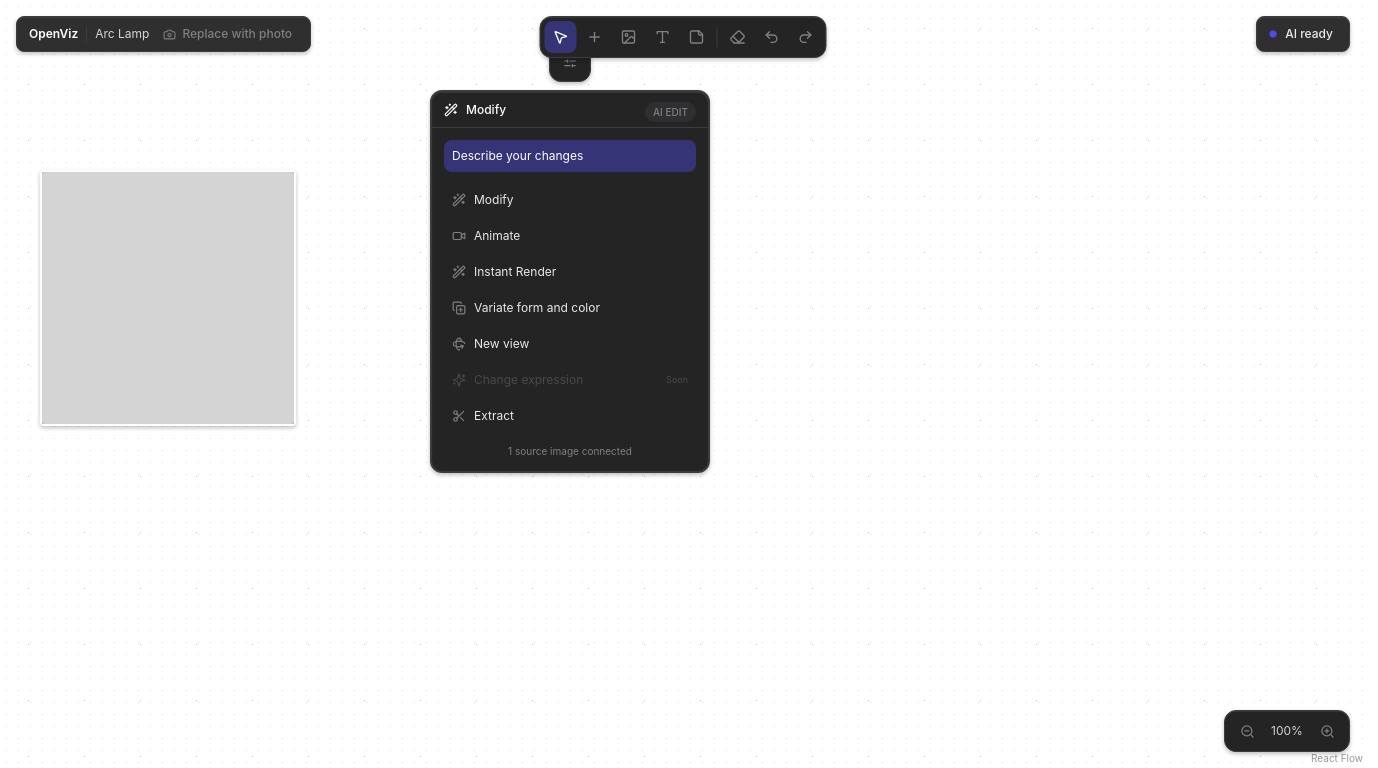
Scenario: GenerationNodeMockup › runs Extract against the connected reference with type and sampling controls
Click the button "Extract" at [570, 416], box [444,400,696,432]
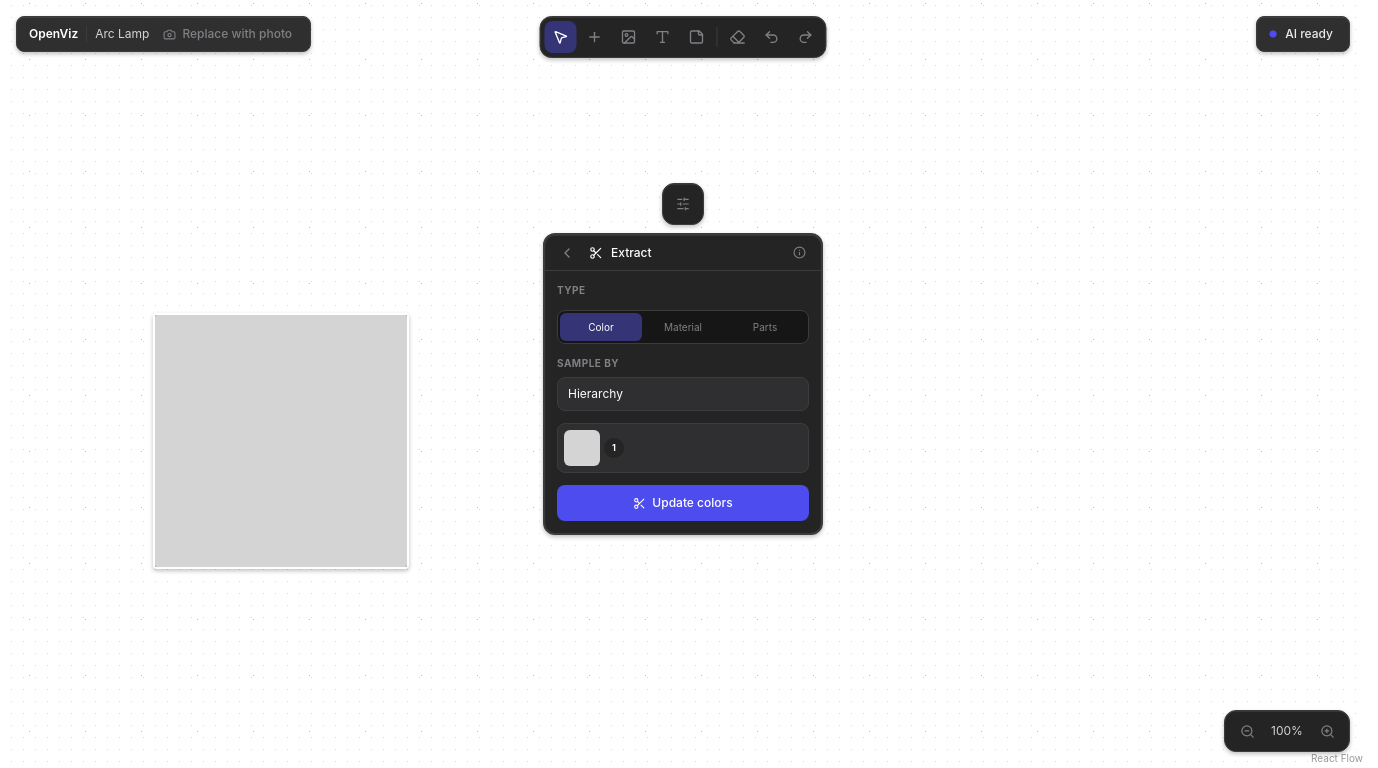
Expected: the heading "Extract" is shown, [611,244,652,260]
Now the button "Update colors" is enabled, box [557,485,809,521]
Click the button "Material" at [683, 327], box [642,313,724,341]
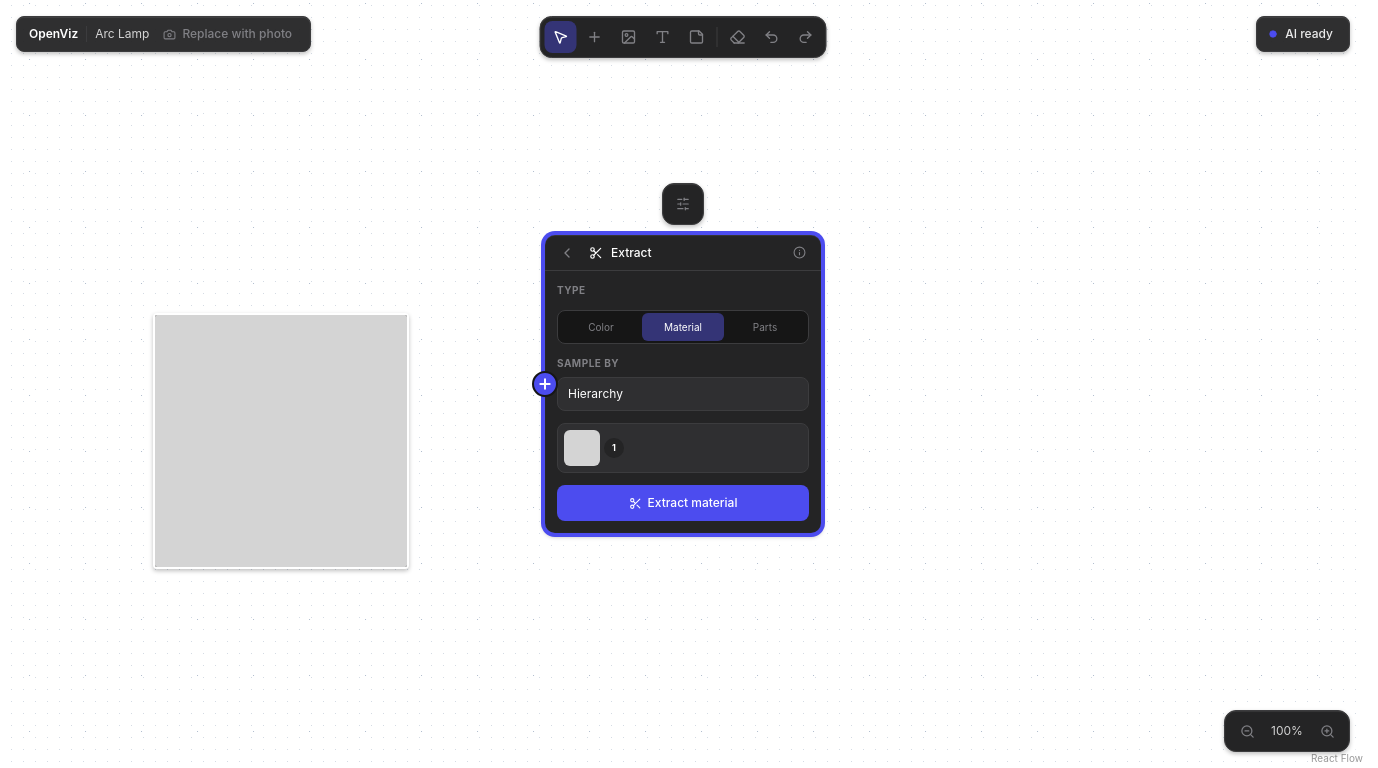
Now the button "Extract material" is enabled, box [557,485,809,521]
Select "Region" in the dropdown labelled "Sample by" at [683, 394], box [557,377,809,411]
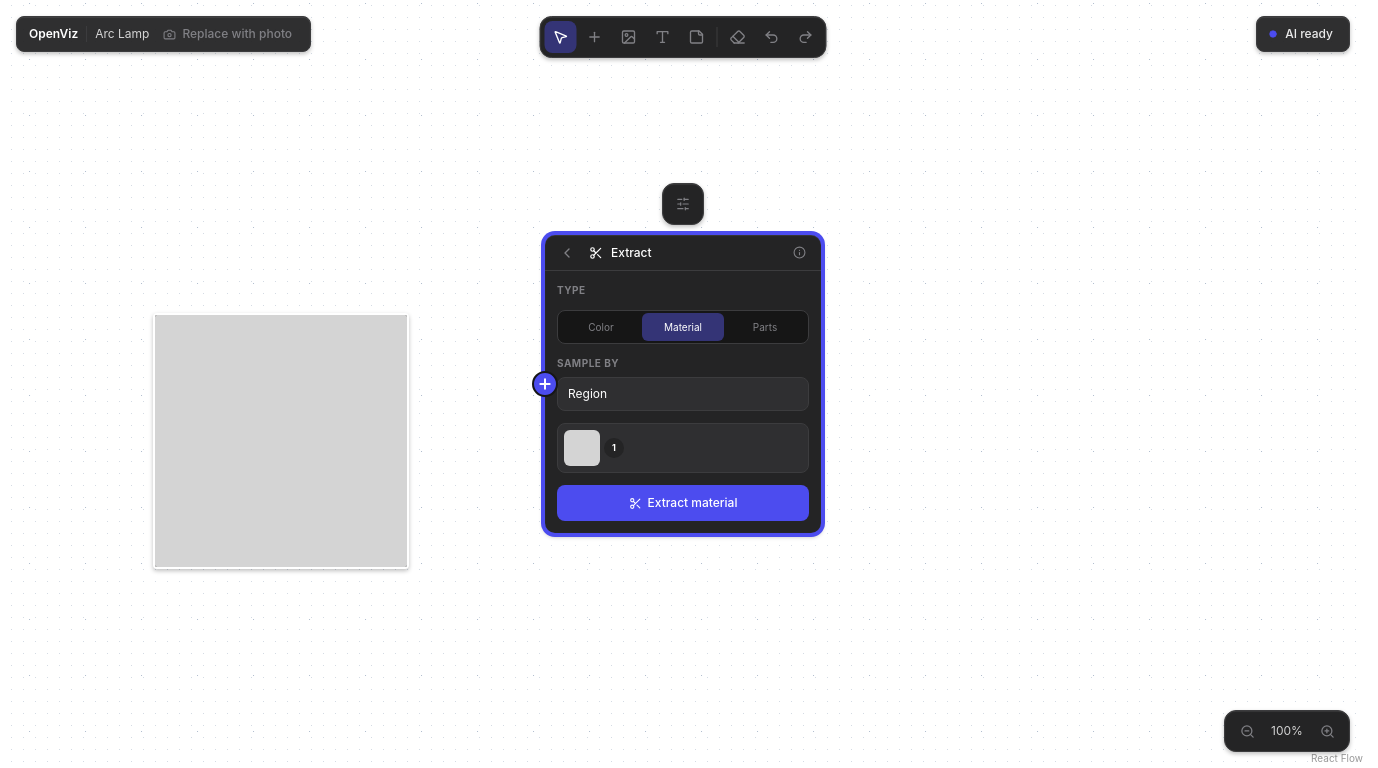
Click the button "Extract material" at [683, 503], box [557,485,809,521]
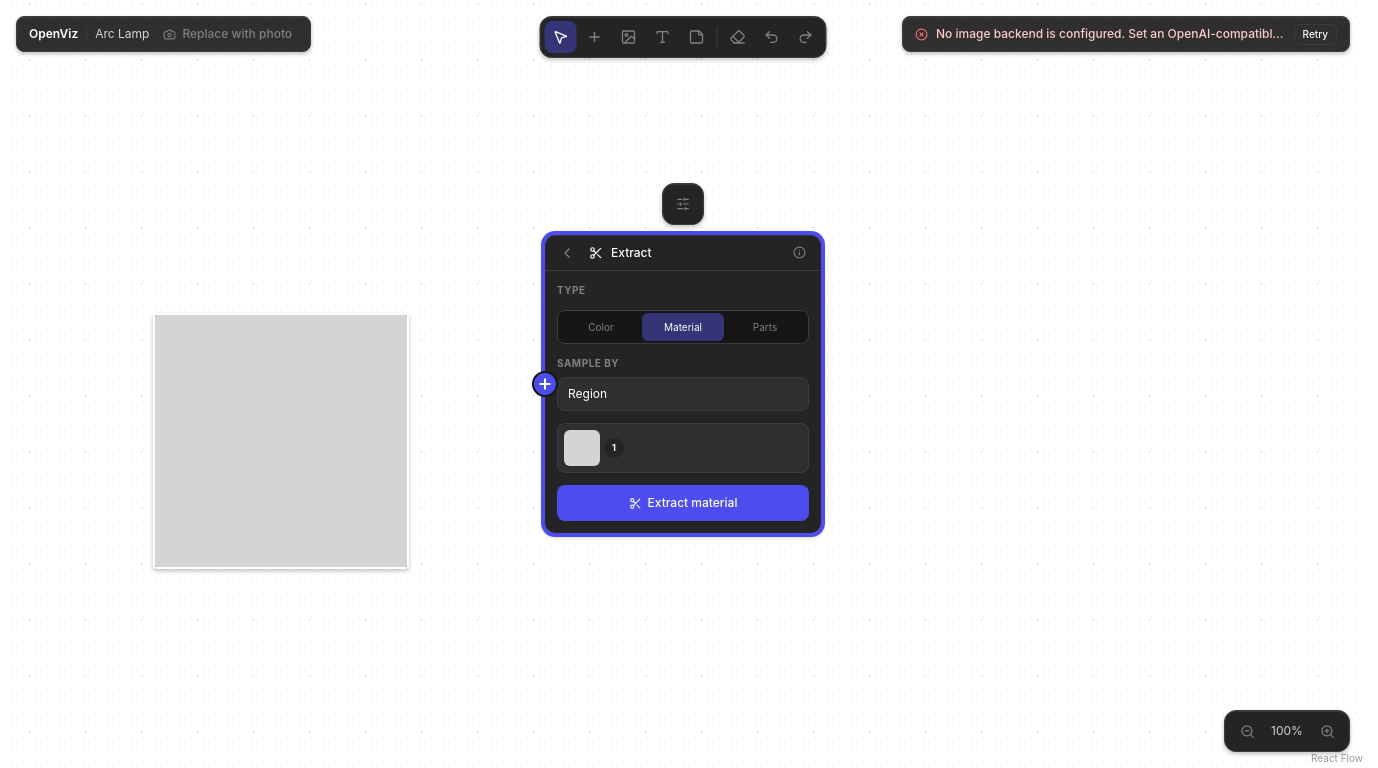
Now the message shows "No image backend is configured", box [936,26,1366,41]
